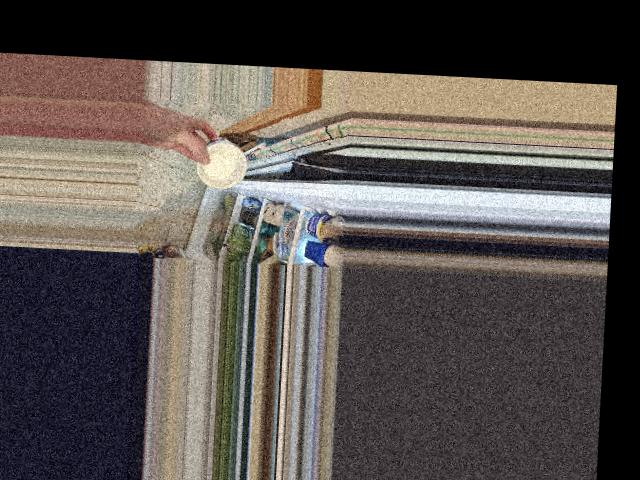cotage: (191, 133, 248, 185)
